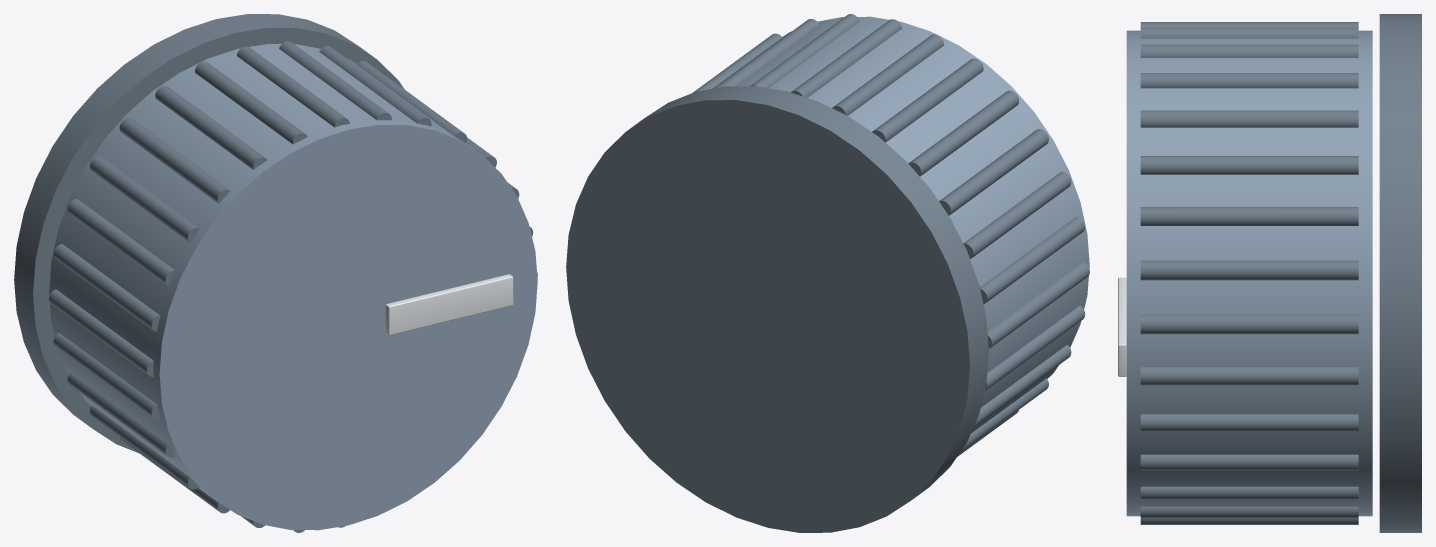
The model's file is FAN.glb.
The picture shows the model from 3 angles, left to right: view 1: azimuth 30°, elevation 25°; view 2: azimuth 150°, elevation 25°; view 3: azimuth 270°, elevation 25°; orthographic projection. The views are drawn at different scales.
Parts seen in each view (by area): view 1: FAN/0000_grip, FAN/0001_flange, FAN/0030_index_mark, FAN/0020_knurl, FAN/0019_knurl, FAN/0021_knurl, FAN/0018_knurl, FAN/0022_knurl, FAN/0017_knurl, FAN/0023_knurl, FAN/0016_knurl, FAN/0024_knurl (+5 smaller); view 2: FAN/0001_flange, FAN/0000_grip, FAN/0020_knurl, FAN/0019_knurl, FAN/0021_knurl, FAN/0018_knurl, FAN/0022_knurl, FAN/0017_knurl, FAN/0023_knurl, FAN/0016_knurl, FAN/0024_knurl, FAN/0015_knurl (+4 smaller); view 3: FAN/0000_grip, FAN/0001_flange, FAN/0010_knurl, FAN/0011_knurl, FAN/0012_knurl, FAN/0013_knurl, FAN/0009_knurl, FAN/0008_knurl, FAN/0014_knurl, FAN/0007_knurl, FAN/0015_knurl, FAN/0006_knurl (+6 smaller).
Boxes of the visible parts, bbox=[...] form: FAN/0000_grip: bbox=[49, 44, 537, 530]; FAN/0001_flange: bbox=[14, 14, 404, 453]; FAN/0030_index_mark: bbox=[385, 274, 513, 335]; FAN/0020_knurl: bbox=[90, 156, 199, 242]; FAN/0019_knurl: bbox=[119, 118, 230, 203]; FAN/0021_knurl: bbox=[67, 199, 175, 286]; FAN/0018_knurl: bbox=[155, 85, 267, 169]; FAN/0022_knurl: bbox=[53, 244, 160, 331]; FAN/0017_knurl: bbox=[195, 61, 307, 144]; FAN/0023_knurl: bbox=[49, 289, 153, 376]; FAN/0016_knurl: bbox=[237, 46, 349, 127]; FAN/0024_knurl: bbox=[53, 333, 160, 419]; FAN/0001_flange: bbox=[566, 86, 988, 532]; FAN/0000_grip: bbox=[713, 16, 1089, 433]; FAN/0020_knurl: bbox=[939, 129, 1048, 215]; FAN/0019_knurl: bbox=[908, 90, 1018, 176]; FAN/0021_knurl: bbox=[963, 171, 1071, 259]; FAN/0018_knurl: bbox=[872, 58, 983, 142]; FAN/0022_knurl: bbox=[980, 216, 1084, 304]; FAN/0017_knurl: bbox=[832, 34, 943, 115]; FAN/0023_knurl: bbox=[987, 262, 1089, 348]; FAN/0016_knurl: bbox=[791, 19, 901, 97]; FAN/0024_knurl: bbox=[985, 305, 1085, 390]; FAN/0015_knurl: bbox=[750, 14, 859, 88]; FAN/0000_grip: bbox=[1126, 30, 1372, 516]; FAN/0001_flange: bbox=[1379, 14, 1421, 532]; FAN/0010_knurl: bbox=[1140, 314, 1358, 334]; FAN/0011_knurl: bbox=[1140, 260, 1358, 280]; FAN/0012_knurl: bbox=[1140, 207, 1358, 225]; FAN/0013_knurl: bbox=[1140, 156, 1358, 174]; FAN/0009_knurl: bbox=[1140, 367, 1358, 385]; FAN/0008_knurl: bbox=[1140, 414, 1358, 431]; FAN/0014_knurl: bbox=[1140, 110, 1358, 127]; FAN/0007_knurl: bbox=[1140, 454, 1358, 470]; FAN/0015_knurl: bbox=[1140, 73, 1358, 88]; FAN/0006_knurl: bbox=[1140, 486, 1358, 499].
Bounding box in the file's own units: 0.0517 × 0.0517 × 0.0303.
